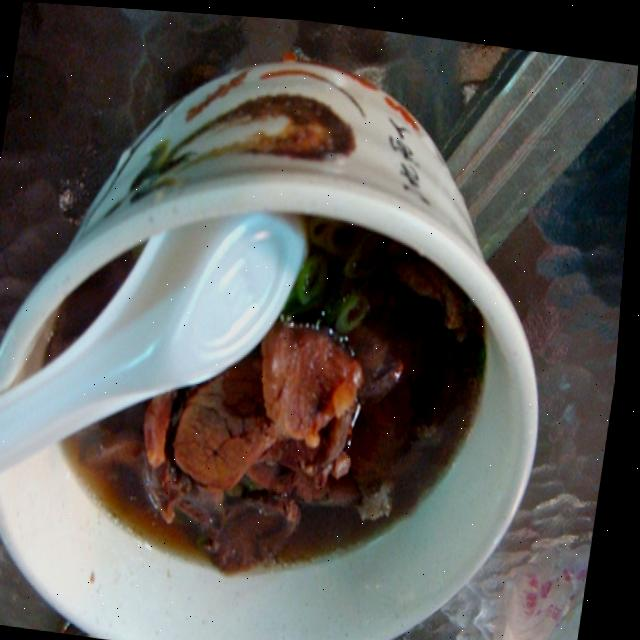面条主食: (0, 129, 554, 640)
